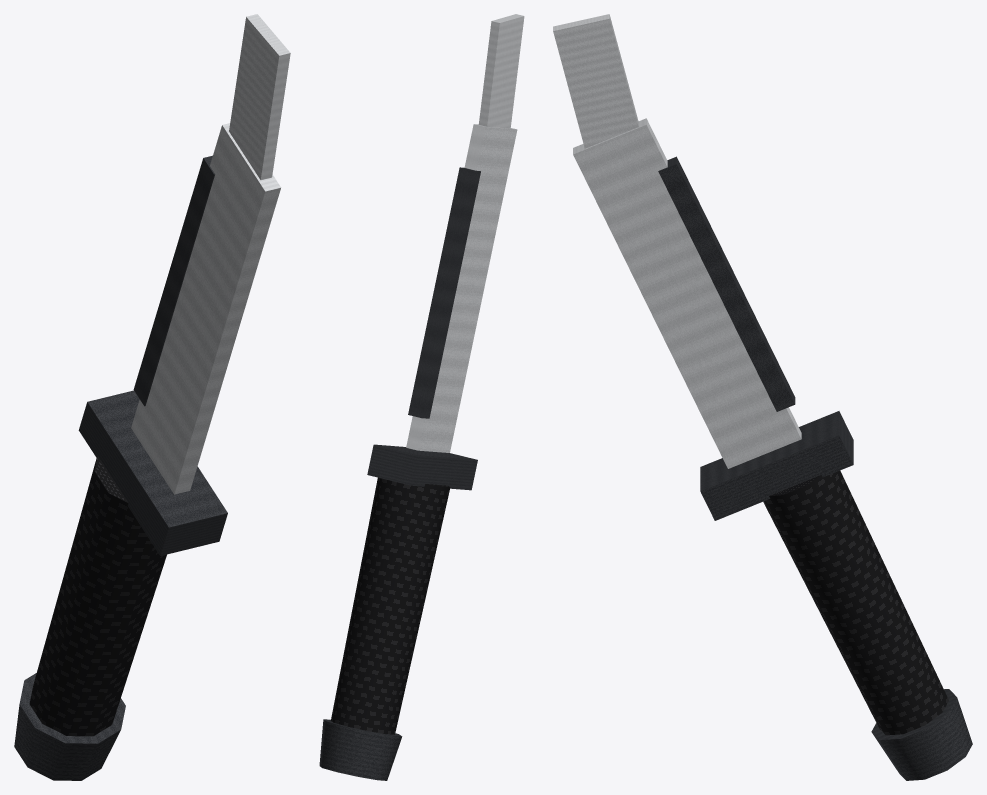
Rendered from combat_knife.glb.
3 views of the same model, side by side, from view 1: azimuth 30°, elevation 25°; view 2: azimuth 150°, elevation 25°; view 3: azimuth 270°, elevation 25° (orthographic). The views are drawn at different scales.
Visible parts, largest first — view 1: weapon_combat_knife; view 2: weapon_combat_knife; view 3: weapon_combat_knife.
Part boxes in pixels (x1=…): weapon_combat_knife: x1=14, y1=14, x2=290, y2=780; weapon_combat_knife: x1=319, y1=14, x2=524, y2=780; weapon_combat_knife: x1=553, y1=14, x2=972, y2=780.
Size of the model in its own units: 0.0399 by 0.3737 by 0.1877.
3 materials, 3 textured.
